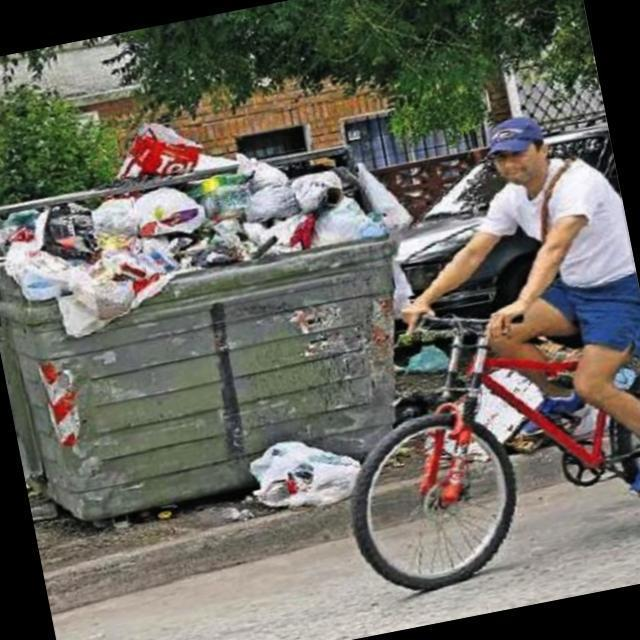garbage: (0, 77, 426, 351), (223, 411, 377, 534), (439, 358, 549, 449), (391, 330, 463, 388)
